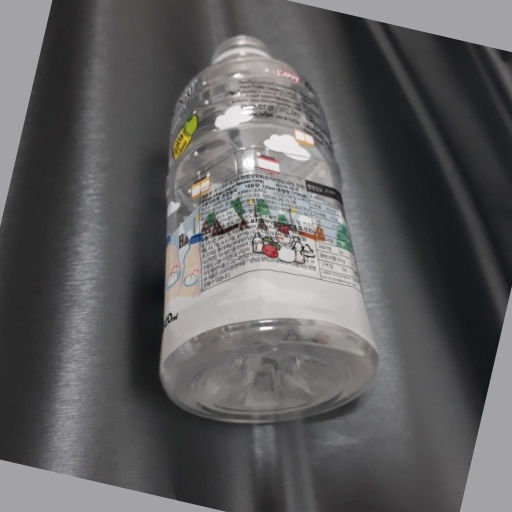Plastic_0: (161, 33, 379, 426)
